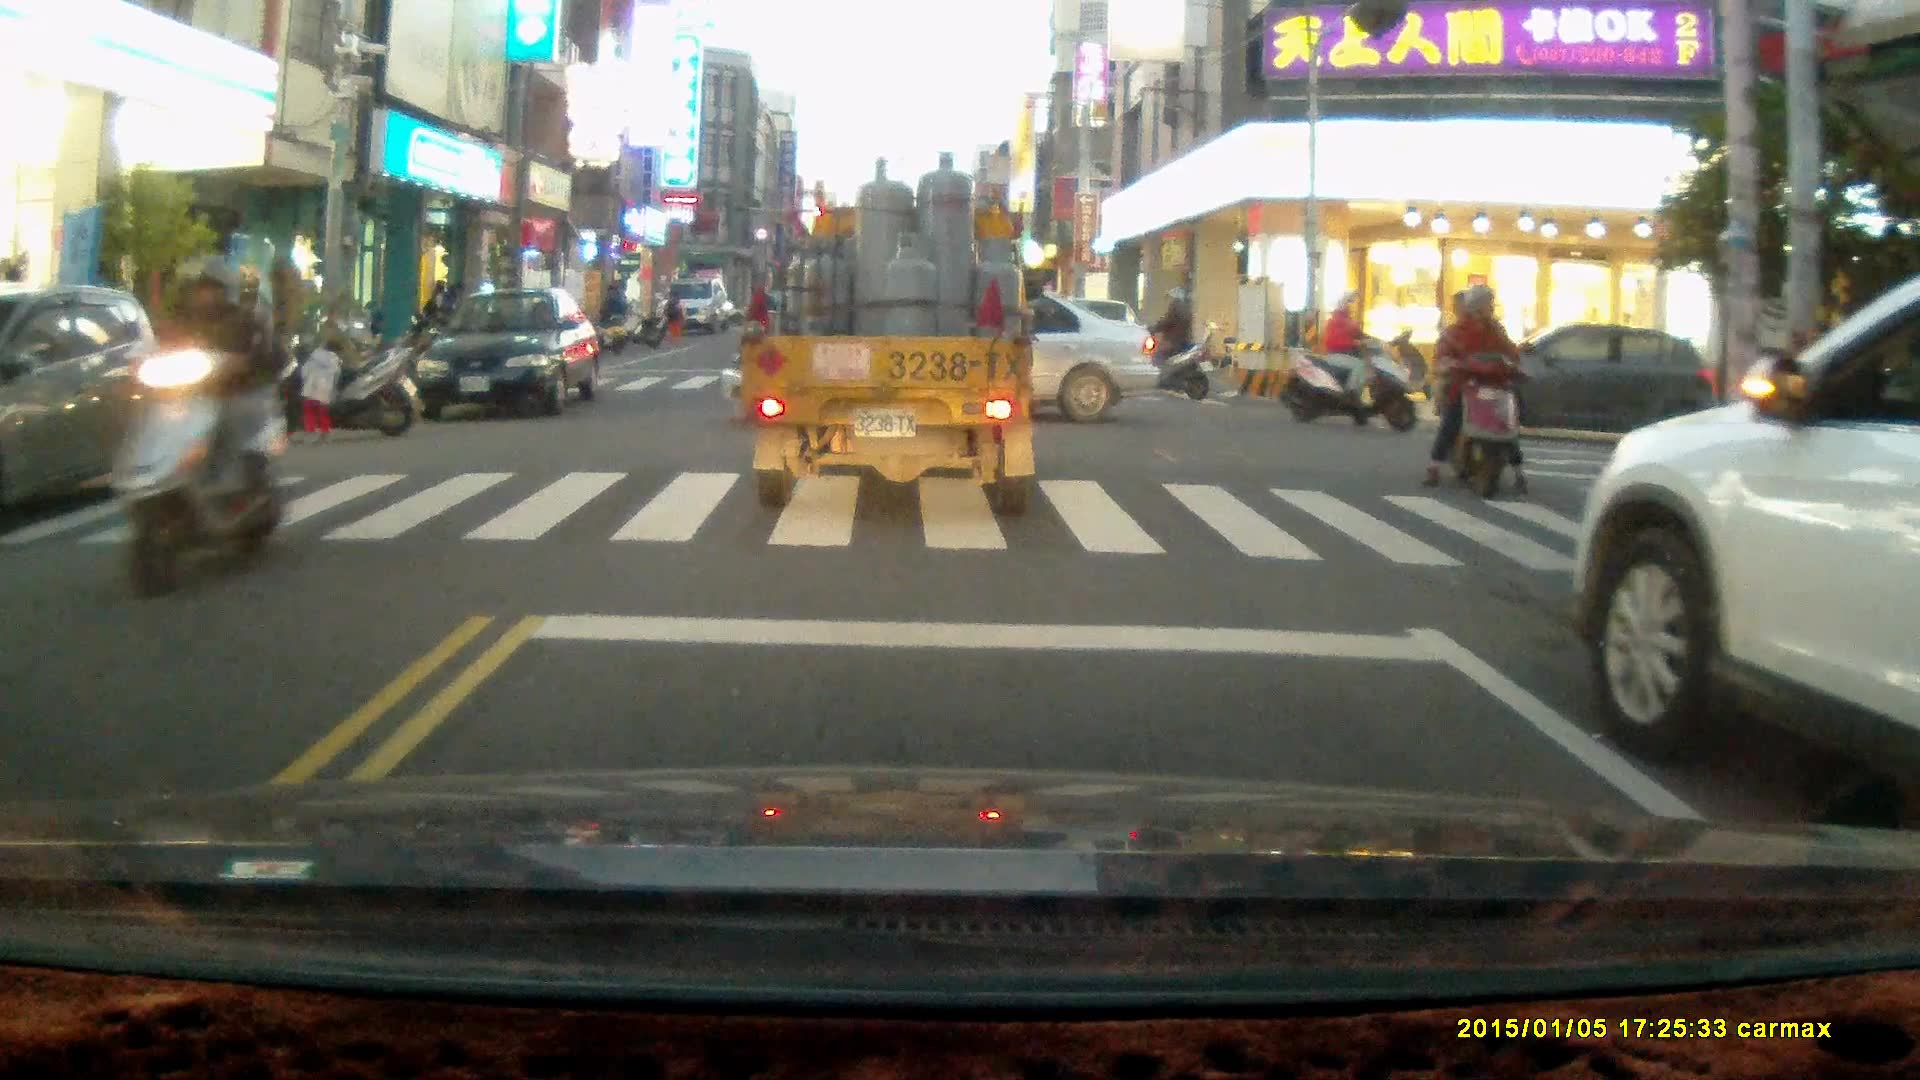pedestrian: (295, 340, 342, 446), (604, 279, 631, 342), (663, 288, 686, 345)
rider: (106, 254, 283, 605), (1422, 285, 1538, 504), (1279, 294, 1417, 431), (1117, 284, 1212, 403)
vehicle: (1566, 276, 1920, 795), (743, 148, 1038, 526), (1455, 324, 1720, 438), (414, 292, 604, 419), (658, 281, 731, 336)
